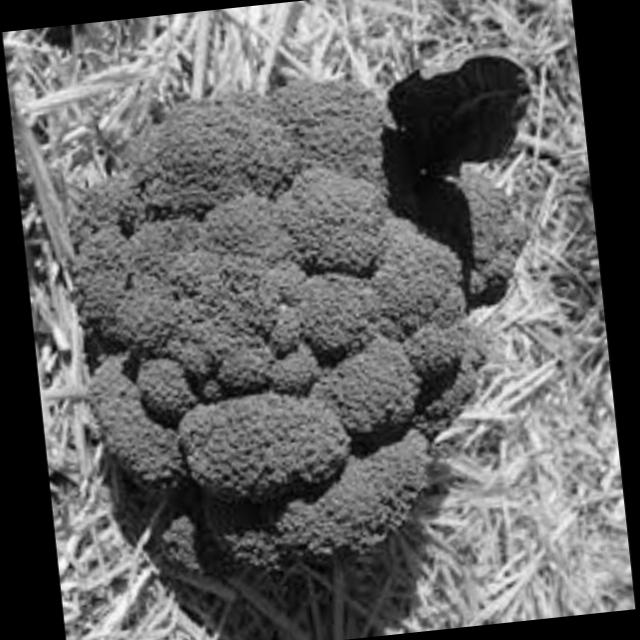bong cai xanh: (50, 46, 574, 602)
